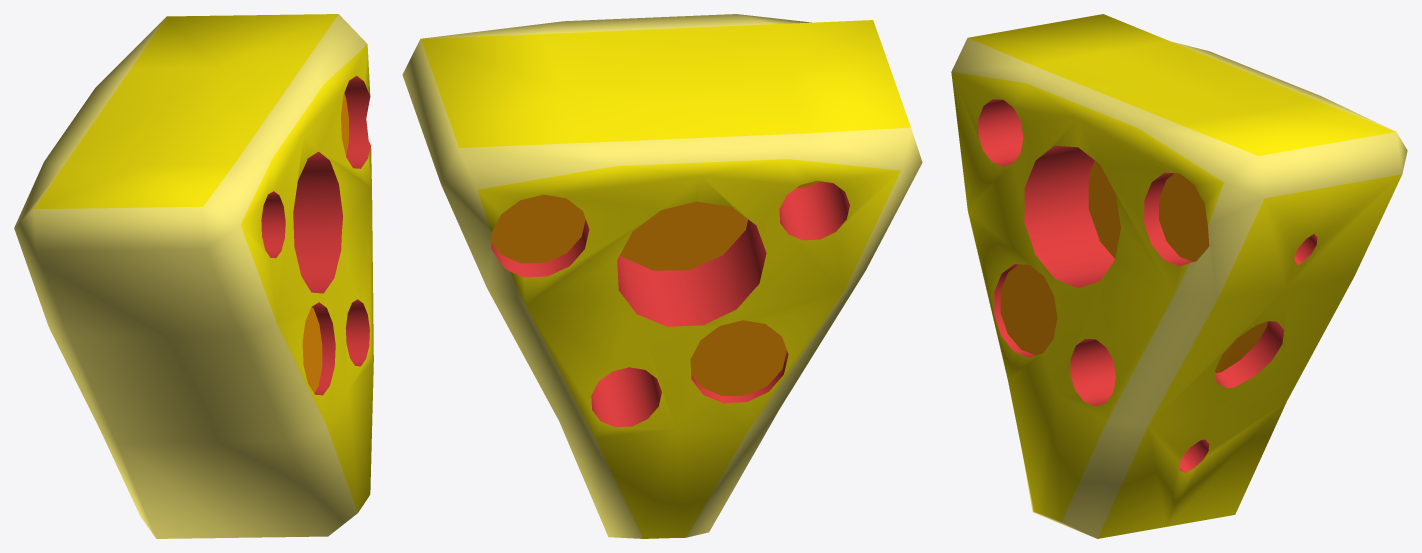
File: Spinning Cheese.fbx
3 renders of one model, left to right at view 1: azimuth 30°, elevation 25°; view 2: azimuth 150°, elevation 25°; view 3: azimuth 270°, elevation 25°, orthographic. The views are drawn at different scales.
Visible parts, largest first — view 1: Box001; view 2: Box001; view 3: Box001.
Part boxes in pixels (bbox=[...]): Box001: bbox=[14, 14, 373, 538]; Box001: bbox=[402, 14, 922, 538]; Box001: bbox=[951, 14, 1407, 538].
Bounding box in the file's own units: 3.73 × 3.89 × 3.63.
